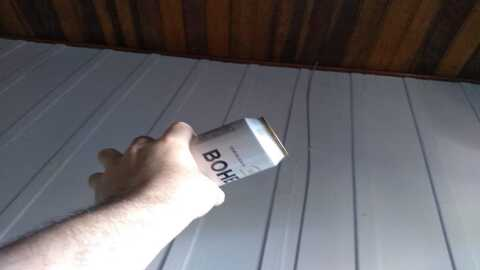bohemia: (188, 109, 301, 185)
